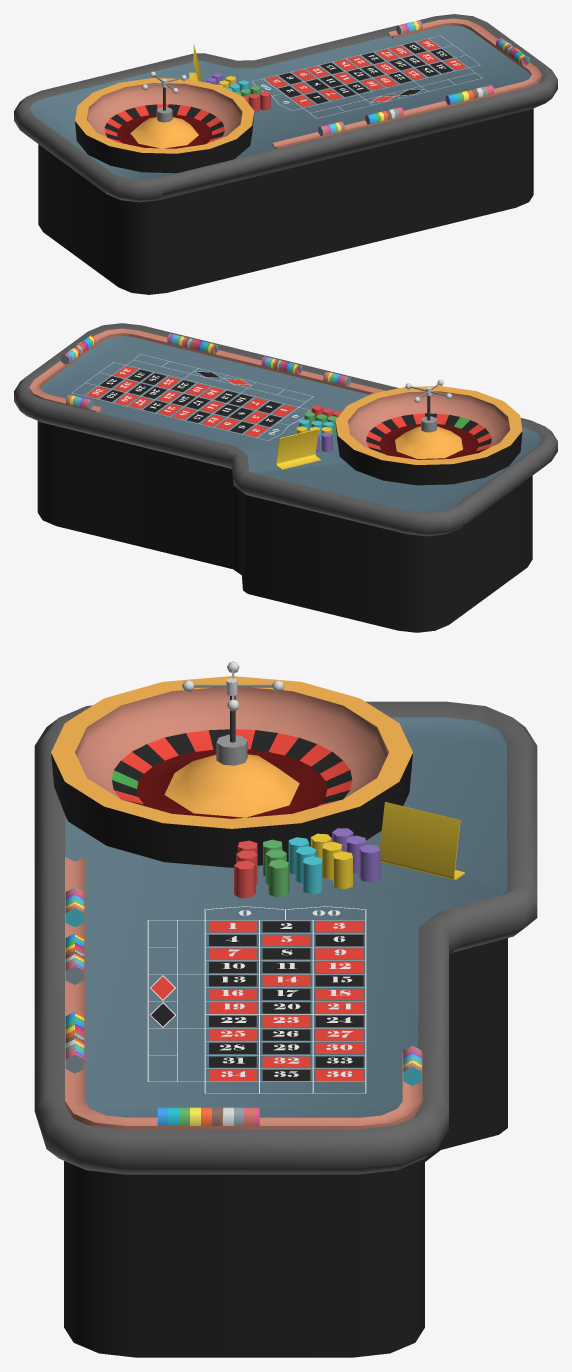
File: entertainment_004.fbx
3 views of the same model, one above another, from view 1: azimuth 30°, elevation 25°; view 2: azimuth 150°, elevation 25°; view 3: azimuth 270°, elevation 25° (orthographic). The views are drawn at different scales.
Visible parts, largest first — view 1: entertainment_004; view 2: entertainment_004; view 3: entertainment_004.
Part boxes in pixels (x1,y1,x2,y2): entertainment_004: [14, 14, 557, 294]; entertainment_004: [14, 323, 557, 632]; entertainment_004: [34, 661, 537, 1357].
Bounding box in the file's own units: 286 × 138 × 105.
